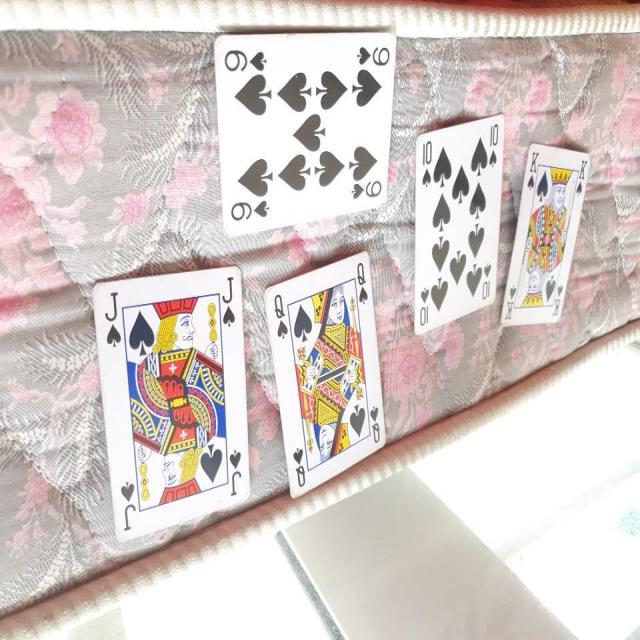10 of spades: (410, 110, 502, 340)
9 of spades: (188, 30, 399, 227)
jack of spades: (90, 254, 250, 547)
king of spades: (500, 140, 590, 328)
queen of spades: (264, 255, 390, 503)
